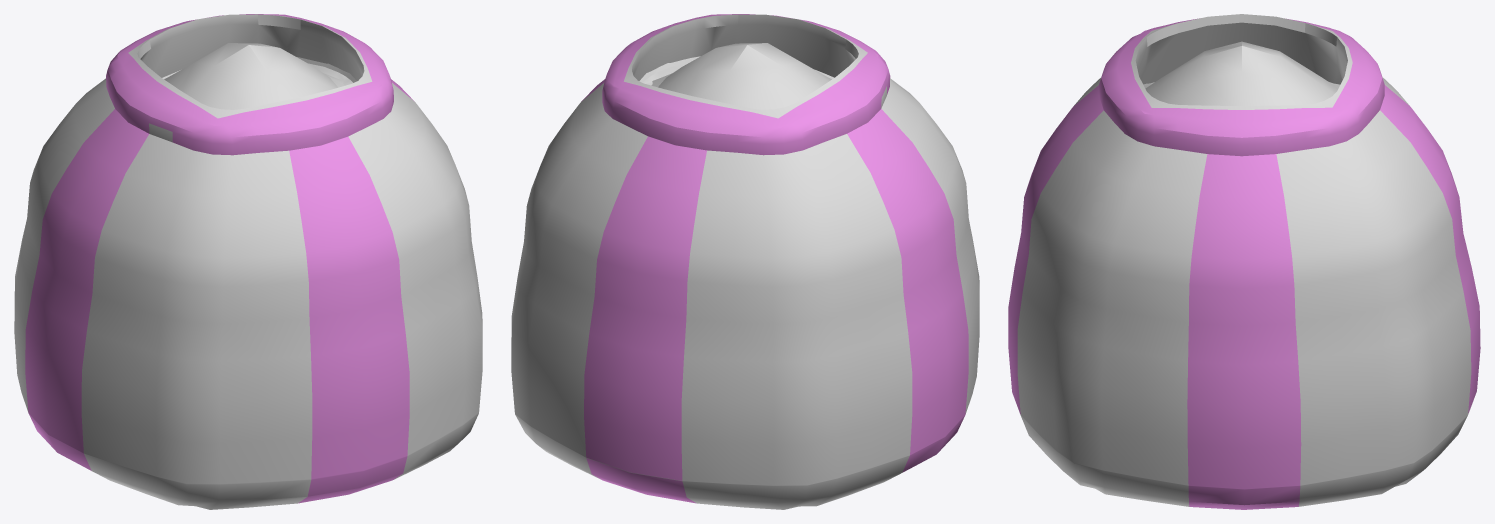
Rendered from Prefab_SugarFull_Lily.fbx.
The picture shows the model from 3 angles, left to right: view 1: azimuth 30°, elevation 25°; view 2: azimuth 150°, elevation 25°; view 3: azimuth 270°, elevation 25°; orthographic projection.
Visible parts, largest first — view 1: Cube; view 2: Cube; view 3: Cube.
Boxes of the visible parts, x1,y1,x2,y2 form: Cube: (14, 14, 482, 509); Cube: (511, 14, 979, 509); Cube: (1008, 14, 1480, 509).
Size of the model in its own units: 10 by 9 by 10.
